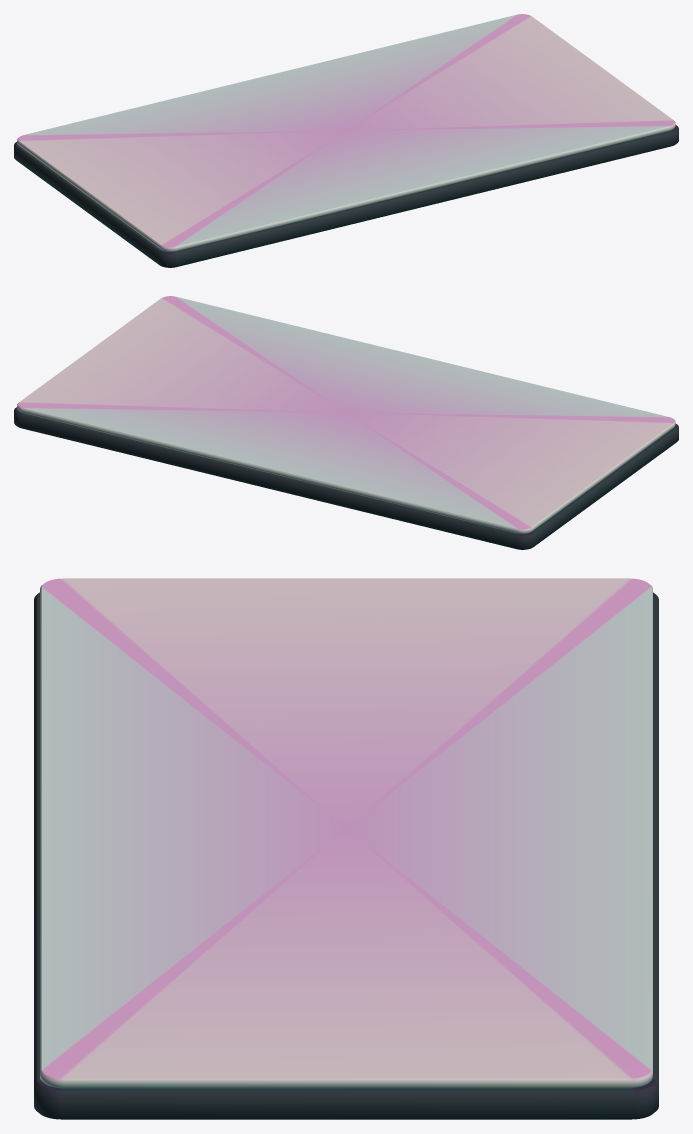
File: display-base.glb
The picture shows the model from 3 angles, top to bottom: view 1: azimuth 30°, elevation 25°; view 2: azimuth 150°, elevation 25°; view 3: azimuth 270°, elevation 25°; orthographic projection. The views are drawn at different scales.
Visible parts, largest first — view 1: BaseTop, BaseEdge; view 2: BaseTop, BaseEdge; view 3: BaseTop, BaseEdge.
Boxes of the visible parts, box(x1,y1,x2,y2) form: BaseTop: box(17, 14, 675, 251); BaseEdge: box(14, 125, 678, 267); BaseTop: box(17, 296, 675, 533); BaseEdge: box(14, 407, 678, 549); BaseTop: box(40, 578, 652, 1088); BaseEdge: box(34, 592, 658, 1119).
Size of the model in its own units: 6.06 by 0.218 by 3.16.
